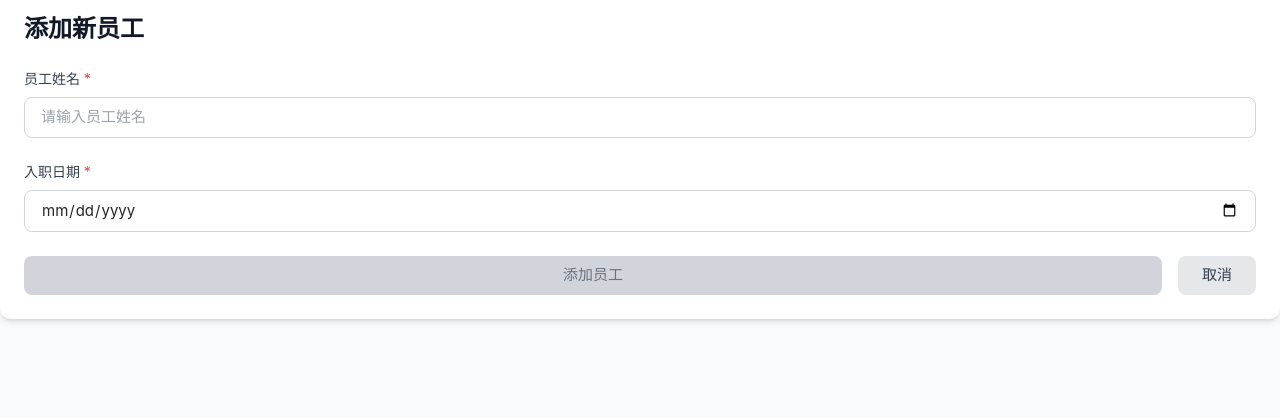
EmployeeForm.vue › 表单验证失败 › validateEmployee 返回错误时应该显示错误信息
Type "张三" into the field with id "name" at (640, 117), box x1=24 y1=97 x2=1256 y2=138
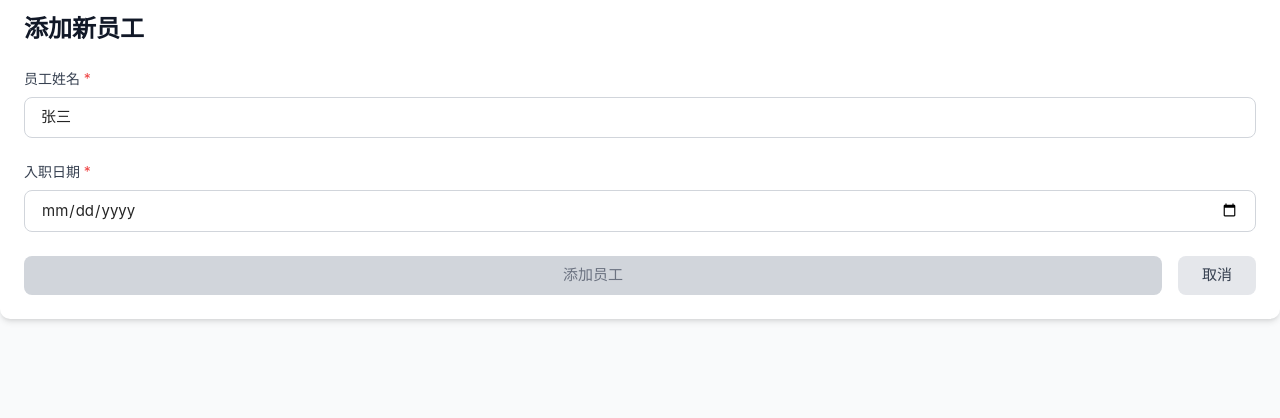
Type "2023-05-15" into the date field with id "hireDate" at (640, 211), box x1=24 y1=190 x2=1256 y2=232
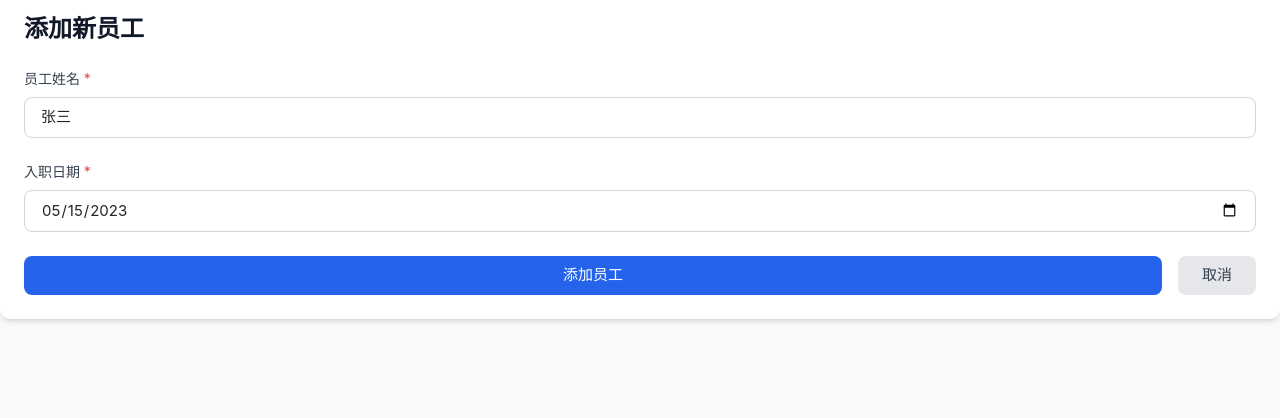
Submit the form, box x1=24 y1=69 x2=1256 y2=294
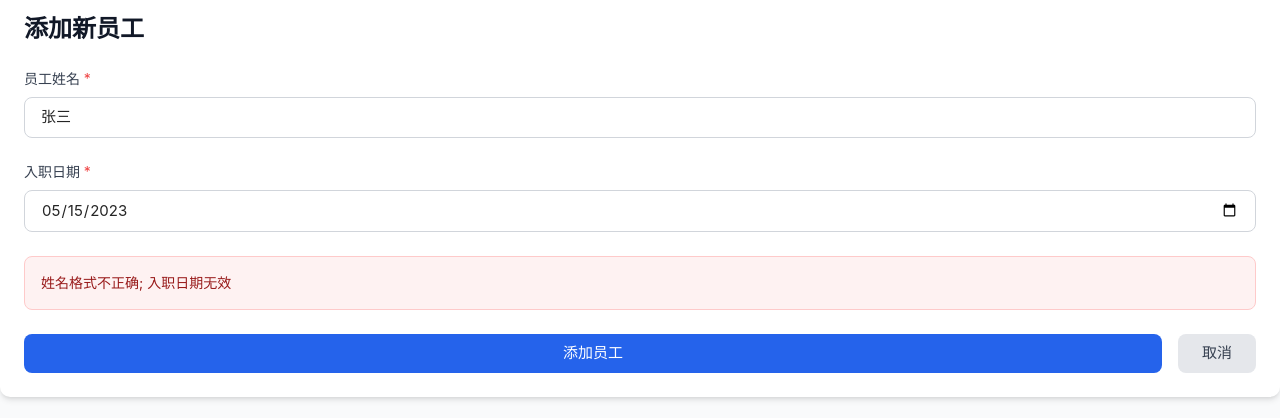
Expected: the text "姓名格式不正确; 入职日期无效" is shown, x1=41 y1=274 x2=231 y2=291
